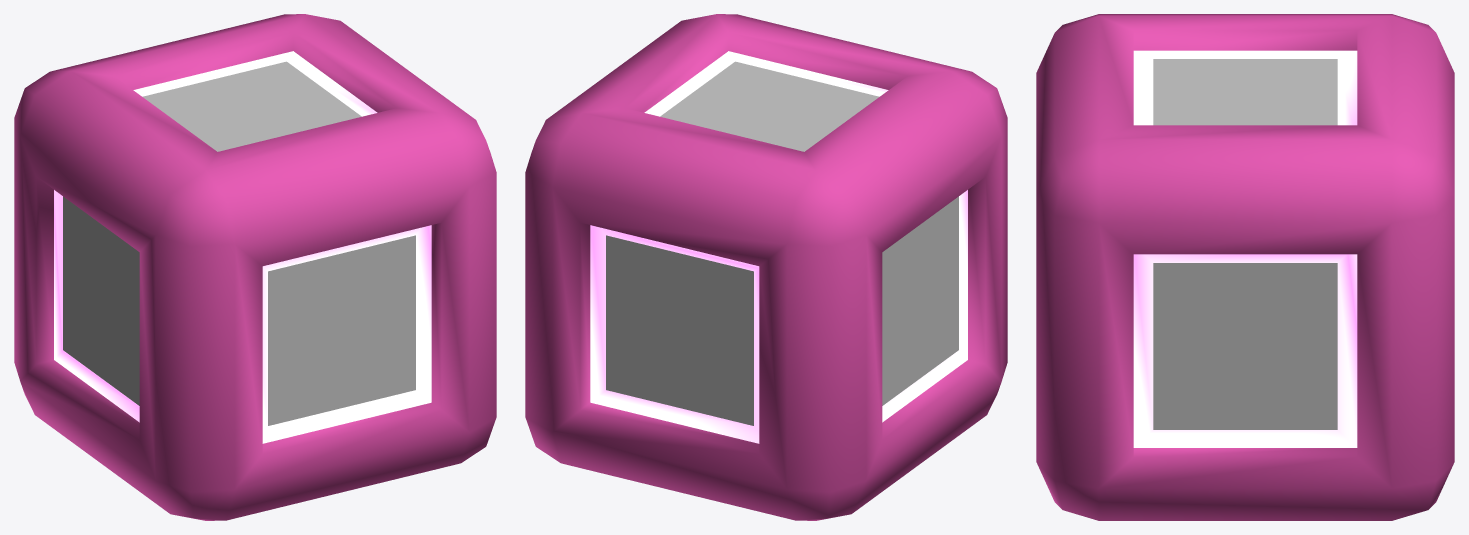
Rendered from dark-cube.glb.
The picture shows the model from 3 angles, left to right: view 1: azimuth 30°, elevation 25°; view 2: azimuth 150°, elevation 25°; view 3: azimuth 270°, elevation 25°; orthographic projection. The views are drawn at different scales.
Visible parts, largest first — view 1: Cube.001; view 2: Cube.001; view 3: Cube.001.
Part boxes in pixels (<box>): Cube.001: <box>14,14,496,520</box>; Cube.001: <box>525,14,1007,520</box>; Cube.001: <box>1036,14,1454,520</box>.
Bounding box in the file's own units: 2 × 2 × 2.
